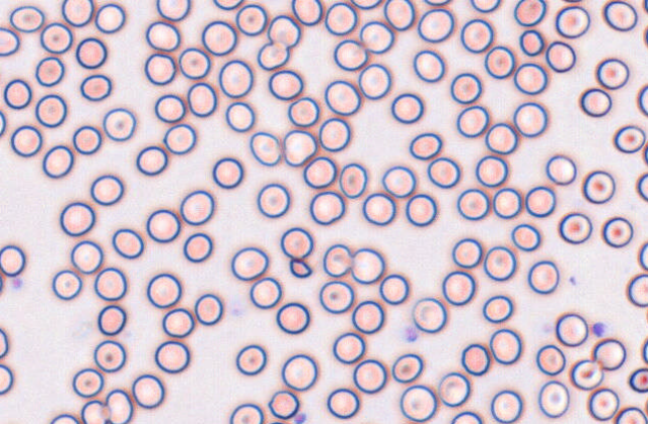PLT: (403, 328, 419, 344), (593, 320, 608, 337), (10, 275, 24, 291), (293, 412, 307, 424)
RBC: (399, 384, 437, 422), (281, 353, 317, 391), (218, 59, 253, 98), (324, 79, 360, 115), (282, 129, 317, 166), (230, 246, 268, 280), (309, 190, 345, 225), (59, 201, 95, 236), (179, 189, 214, 225), (201, 20, 237, 55), (350, 247, 384, 284), (417, 8, 454, 42), (352, 358, 387, 393), (146, 273, 181, 308), (412, 297, 446, 333), (357, 63, 391, 99), (513, 101, 547, 137), (537, 380, 569, 418), (441, 270, 475, 305), (256, 182, 290, 217), (437, 371, 470, 407), (154, 340, 190, 373), (483, 245, 516, 281), (554, 5, 590, 38), (146, 208, 180, 242), (93, 267, 127, 301), (102, 107, 136, 141), (591, 337, 626, 370), (359, 20, 394, 53), (319, 280, 354, 313), (460, 18, 493, 53), (489, 328, 521, 364), (267, 14, 300, 48), (131, 374, 164, 408), (351, 300, 384, 334), (70, 240, 103, 274), (555, 312, 588, 346), (276, 301, 310, 334), (324, 1, 357, 35), (362, 192, 396, 225), (34, 93, 67, 127), (249, 131, 281, 166), (332, 331, 365, 364), (280, 226, 313, 259), (93, 339, 126, 372), (582, 170, 615, 203), (569, 358, 603, 390), (490, 389, 522, 423), (587, 387, 619, 421), (302, 156, 336, 188), (39, 22, 73, 54), (426, 156, 460, 188), (381, 165, 415, 197), (513, 62, 547, 94), (318, 117, 350, 151), (527, 260, 559, 294), (558, 212, 592, 244), (595, 57, 629, 89), (145, 20, 180, 51), (268, 69, 303, 100), (602, 0, 637, 31), (326, 387, 359, 419), (249, 276, 282, 308), (235, 3, 267, 36), (456, 105, 489, 137), (475, 155, 508, 187), (484, 122, 517, 154), (412, 49, 444, 82), (405, 193, 437, 226), (456, 188, 489, 220), (333, 39, 367, 70), (162, 123, 196, 154), (42, 144, 73, 178), (187, 82, 217, 117), (338, 162, 367, 198), (10, 125, 42, 157), (75, 37, 107, 69), (178, 47, 210, 79), (144, 53, 176, 85), (161, 307, 194, 338), (212, 156, 243, 189), (90, 174, 123, 205), (390, 92, 423, 123), (111, 228, 144, 259), (322, 243, 352, 277), (287, 96, 319, 127), (601, 216, 633, 247), (545, 40, 576, 72), (524, 185, 555, 217), (460, 343, 490, 376), (484, 45, 514, 78), (579, 87, 612, 117), (105, 388, 133, 423), (51, 269, 82, 300), (235, 344, 266, 375), (450, 72, 481, 103), (451, 237, 482, 268), (545, 154, 576, 185), (391, 353, 423, 383), (72, 367, 104, 397), (136, 145, 168, 175), (256, 41, 289, 70), (9, 5, 44, 32), (383, 0, 414, 30), (535, 344, 565, 375), (94, 3, 125, 33), (379, 273, 409, 304), (267, 390, 299, 419), (194, 293, 223, 325), (613, 124, 645, 153), (409, 132, 442, 160), (482, 294, 513, 323), (97, 304, 126, 335), (492, 187, 521, 218), (154, 93, 185, 122), (3, 78, 32, 109), (225, 101, 254, 132), (183, 232, 212, 262), (35, 56, 64, 86), (513, 0, 546, 26), (72, 125, 101, 154), (510, 223, 540, 251), (80, 74, 111, 101), (61, 0, 93, 26), (0, 244, 25, 276), (291, 0, 322, 25), (626, 273, 647, 307), (156, 0, 190, 21), (518, 29, 544, 56), (229, 403, 263, 423), (80, 400, 109, 423), (0, 26, 20, 56), (614, 406, 647, 423), (628, 367, 647, 393), (0, 363, 13, 395), (450, 410, 482, 423), (469, 0, 501, 13), (637, 84, 647, 116), (636, 172, 647, 201), (212, 0, 243, 10), (50, 413, 80, 423), (350, 0, 381, 9), (638, 241, 647, 270), (0, 327, 8, 358), (642, 336, 648, 364), (423, 0, 451, 6), (0, 109, 6, 136), (642, 24, 648, 48), (266, 419, 292, 424), (643, 140, 648, 165), (643, 396, 648, 418), (0, 272, 4, 295), (644, 306, 648, 325), (560, 0, 583, 3), (643, 0, 648, 13)
Schistocyte: (289, 259, 313, 277)
